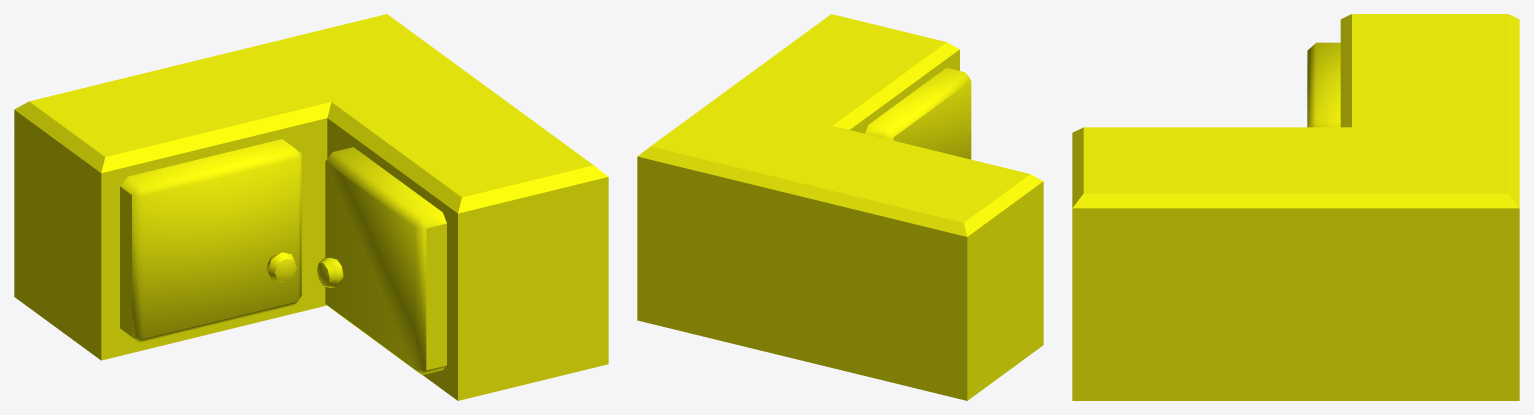
Rendered from kitchencabinet_corner_half.gltf.
3 views of the same model, side by side, from view 1: azimuth 30°, elevation 25°; view 2: azimuth 150°, elevation 25°; view 3: azimuth 270°, elevation 25° (orthographic). The views are drawn at different scales.
Visible parts, largest first — view 1: kitchencabinet_corner_half; view 2: kitchencabinet_corner_half; view 3: kitchencabinet_corner_half.
Boxes of the visible parts, <box> form: kitchencabinet_corner_half: <box>14,14,608,400</box>; kitchencabinet_corner_half: <box>637,14,1043,400</box>; kitchencabinet_corner_half: <box>1072,14,1519,400</box>.
Bounding box in the file's own units: 2 × 1 × 2.
Materials: 1 (1 with a texture image).
